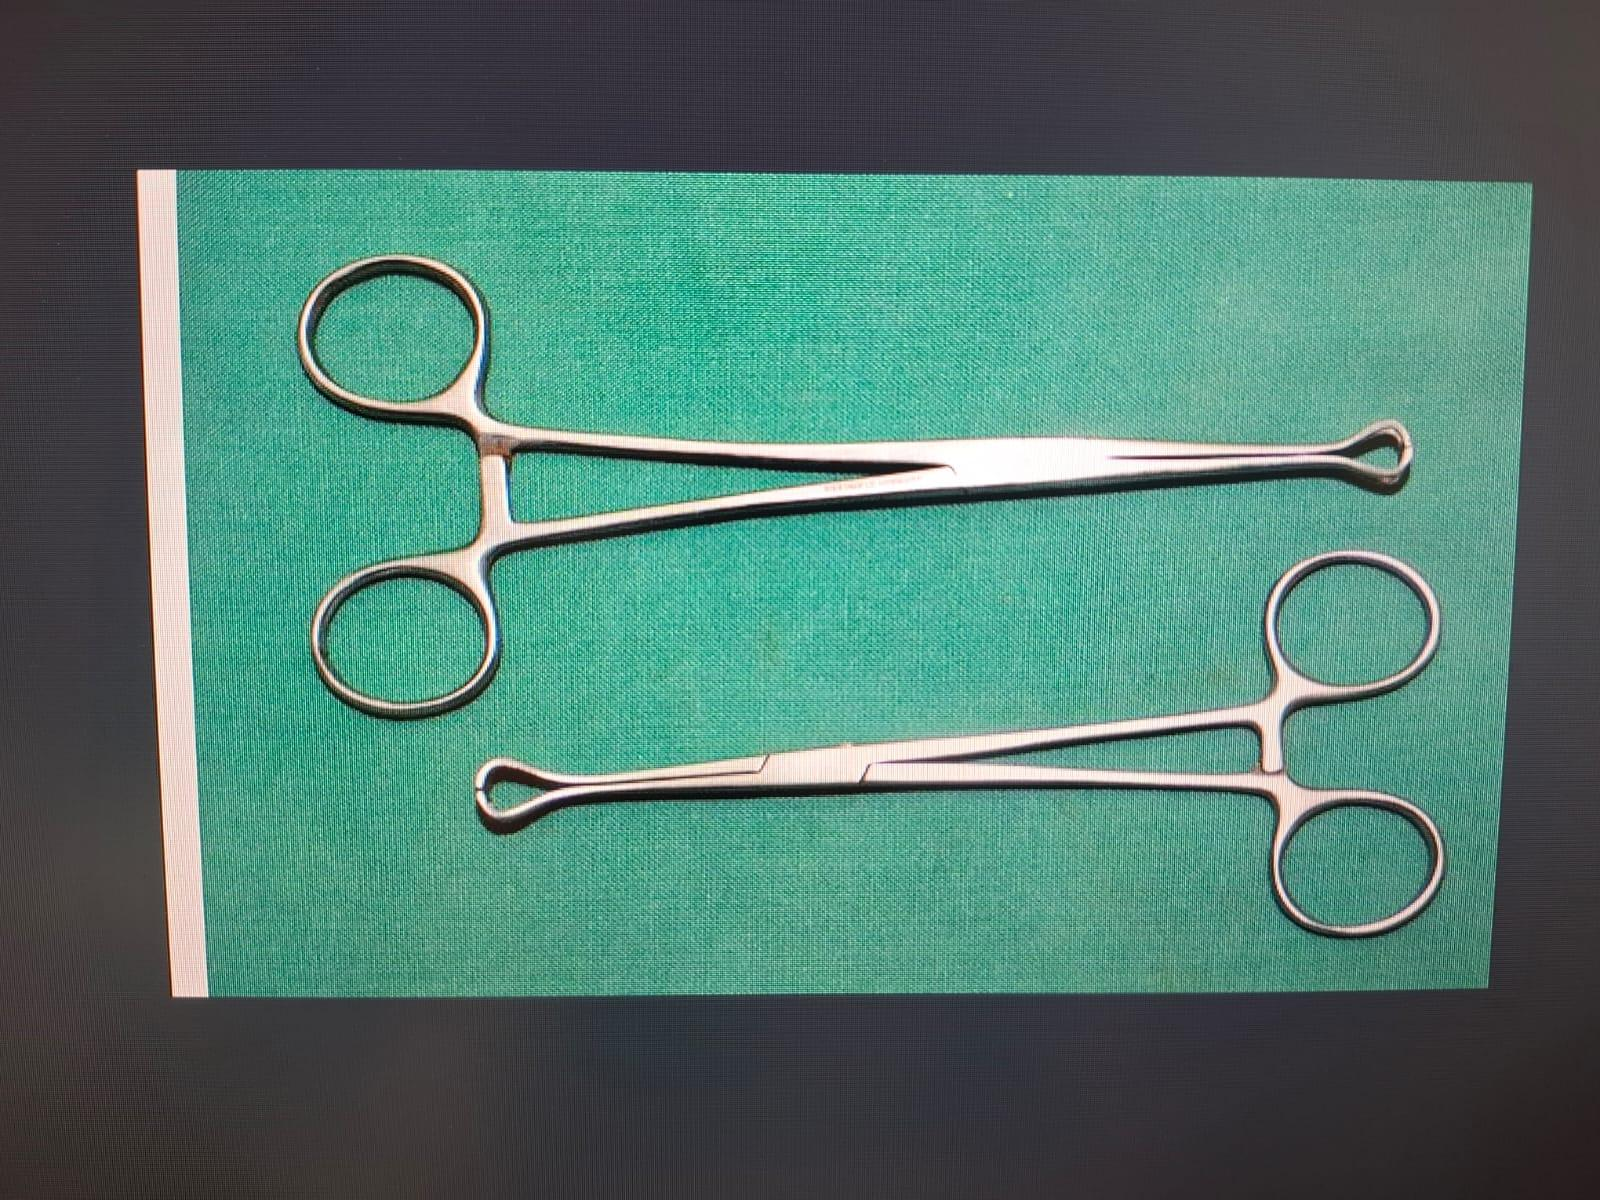Babcock Forceps: (282, 242, 1428, 734), (464, 532, 1458, 952)
